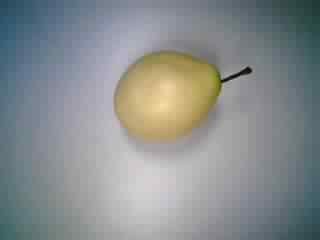pear: (107, 31, 253, 149)
